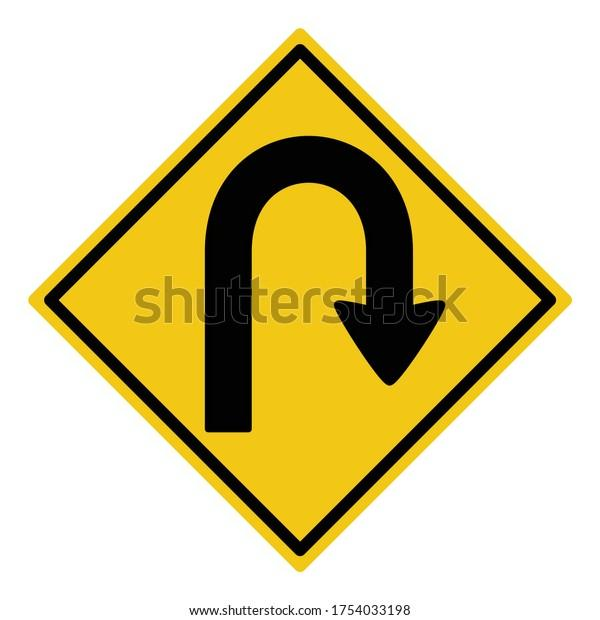Right Hair Pin Bend: (80, 67, 504, 492)
